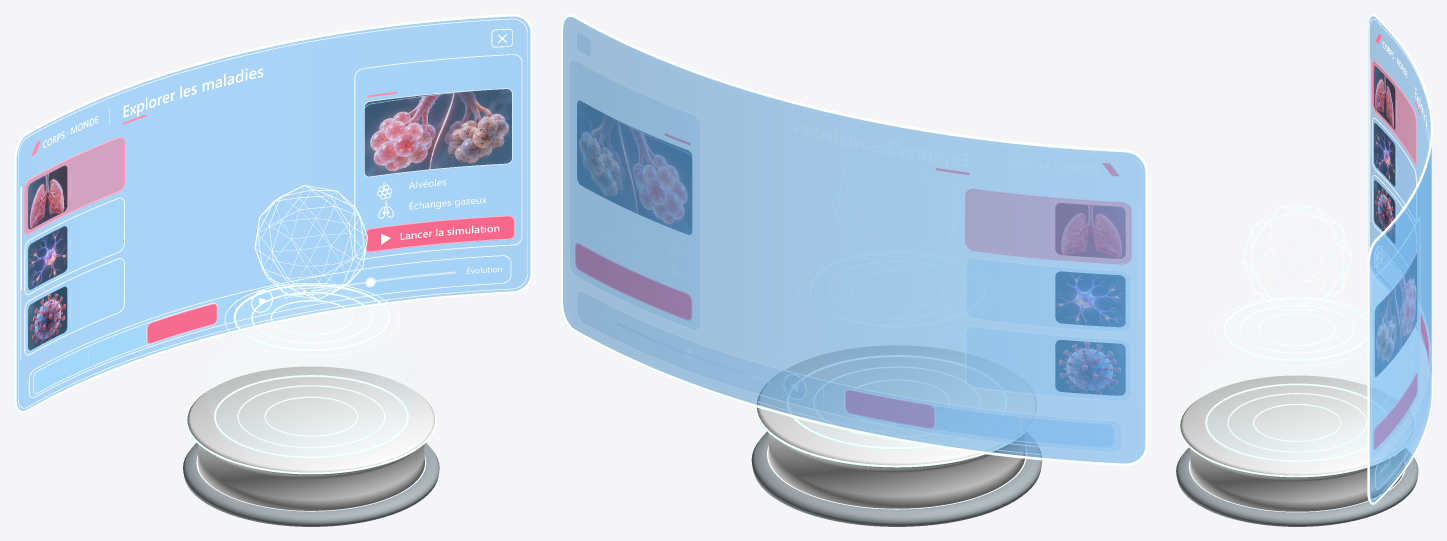
File: ecran_maladies.glb
3 views of the same model, side by side, from view 1: azimuth 30°, elevation 25°; view 2: azimuth 150°, elevation 25°; view 3: azimuth 270°, elevation 25° (orthographic). The views are drawn at different scales.
Visible parts, largest first — view 1: Ecran_Verre, Socle_Base, Infos_Fond, Infos_Image, Ecran_Lisere, Cmd_Fond, Carte_Poumons_Fond, Carte_Virus_Fond, Carte_Neurones_Fond, Vision_Modele_Provisoire, Btn_Simulation_Fond, Vision_Socle_Holo (+11 smaller); view 2: Ecran_Verre, Socle_Base, Infos_Image, Carte_Poumons_Fond, Ecran_Lisere, Carte_Neurones_Vignette, Carte_Virus_Vignette, Carte_Poumons_Vignette, Vision_Socle_Holo, Btn_Simulation_Fond, Vision_Modele_Provisoire, Socle_Emetteur (+7 smaller); view 3: Socle_Base, Ecran_Verre, Ecran_Lisere, Vision_Modele_Provisoire, Infos_Image, Vision_Socle_Holo, Socle_Emetteur, Carte_Poumons_Fond, Carte_Neurones_Fond, Carte_Neurones_Vignette, Carte_Poumons_Vignette, Carte_Virus_Vignette (+4 smaller).
Part boxes in pixels (<box>): Ecran_Verre: <box>16,16,530,410</box>; Socle_Base: <box>183,366,439,526</box>; Infos_Fond: <box>356,55,520,257</box>; Infos_Image: <box>364,89,511,176</box>; Ecran_Lisere: <box>14,14,532,413</box>; Cmd_Fond: <box>30,256,509,396</box>; Carte_Poumons_Fond: <box>25,138,123,233</box>; Carte_Virus_Fond: <box>25,259,123,354</box>; Carte_Neurones_Fond: <box>25,198,123,293</box>; Vision_Modele_Provisoire: <box>254,185,367,299</box>; Btn_Simulation_Fond: <box>366,216,513,251</box>; Vision_Socle_Holo: <box>224,283,398,356</box>; Ecran_Verre: <box>563,17,1145,463</box>; Socle_Base: <box>751,345,1042,526</box>; Infos_Image: <box>577,100,692,234</box>; Carte_Poumons_Fond: <box>966,190,1129,262</box>; Ecran_Lisere: <box>561,14,1147,465</box>; Carte_Neurones_Vignette: <box>1055,271,1125,326</box>; Carte_Virus_Vignette: <box>1055,340,1125,395</box>; Carte_Poumons_Vignette: <box>1055,203,1125,258</box>; Vision_Socle_Holo: <box>798,250,995,334</box>; Btn_Simulation_Fond: <box>576,244,690,319</box>; Vision_Modele_Provisoire: <box>832,140,961,270</box>; Socle_Emetteur: <box>786,355,1007,449</box>; Socle_Base: <box>1176,375,1418,526</box>; Ecran_Verre: <box>1368,16,1431,502</box>; Ecran_Lisere: <box>1367,14,1432,504</box>; Vision_Modele_Provisoire: <box>1242,206,1352,310</box>; Infos_Image: <box>1375,253,1416,376</box>; Vision_Socle_Holo: <box>1214,296,1373,366</box>; Socle_Emetteur: <box>1205,383,1386,462</box>; Carte_Poumons_Fond: <box>1372,61,1415,162</box>; Carte_Neurones_Fond: <box>1373,119,1415,203</box>; Carte_Neurones_Vignette: <box>1374,123,1395,186</box>; Carte_Poumons_Vignette: <box>1374,66,1395,129</box>; Carte_Virus_Vignette: <box>1374,180,1395,243</box>.
Bounding box in the file's own units: 3.1 × 2.12 × 1.41.
Materials: 23 (4 with a texture image).
